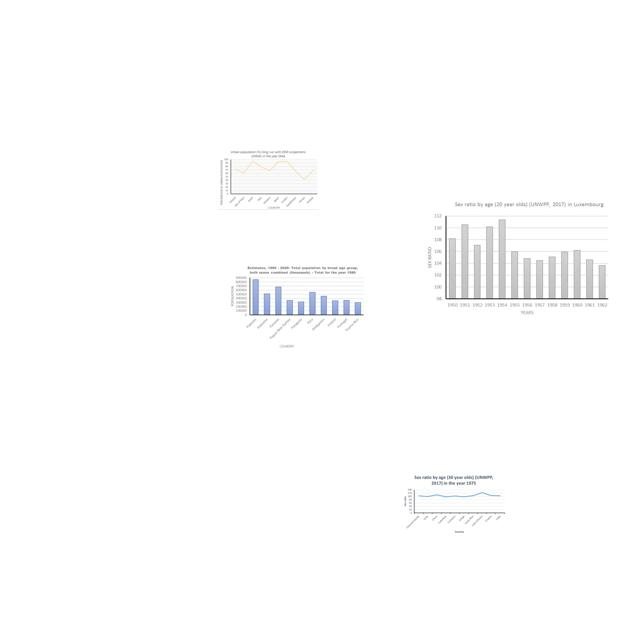Graph: (422, 199, 613, 318), (227, 264, 367, 348), (401, 473, 506, 535), (218, 149, 319, 210)
